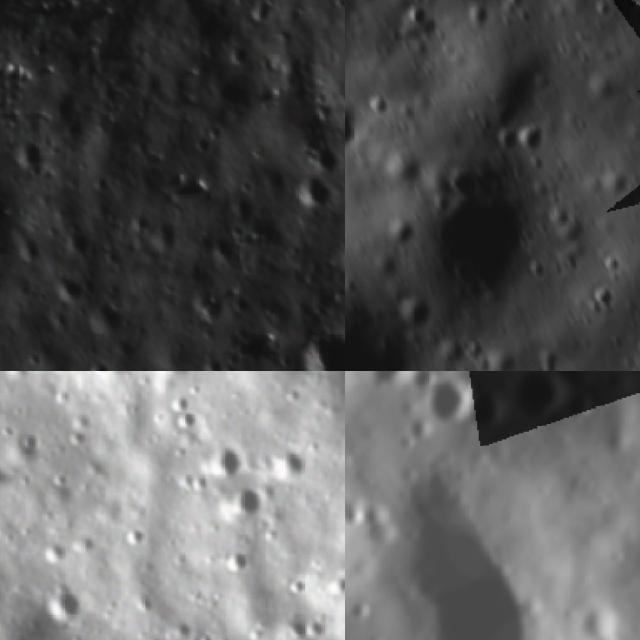crater: (345, 451, 581, 640), (412, 169, 528, 305), (411, 371, 492, 453), (345, 310, 428, 371), (501, 371, 584, 430), (460, 383, 524, 449), (349, 371, 429, 404), (42, 575, 91, 623), (197, 440, 248, 483), (230, 469, 269, 523), (298, 179, 340, 224), (14, 134, 54, 181), (487, 88, 530, 130), (304, 330, 345, 371), (392, 292, 434, 331), (89, 305, 129, 339), (514, 119, 548, 156), (584, 281, 622, 314), (54, 274, 88, 309), (310, 139, 343, 175), (538, 200, 572, 234), (380, 215, 417, 246), (596, 168, 633, 198), (0, 446, 17, 499), (491, 130, 522, 158), (402, 0, 429, 30), (598, 250, 626, 278), (363, 90, 389, 119), (522, 256, 550, 281), (345, 104, 359, 150), (81, 355, 117, 371)
